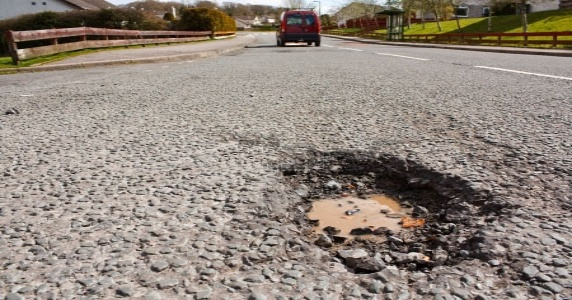pothole: (254, 134, 508, 282)
